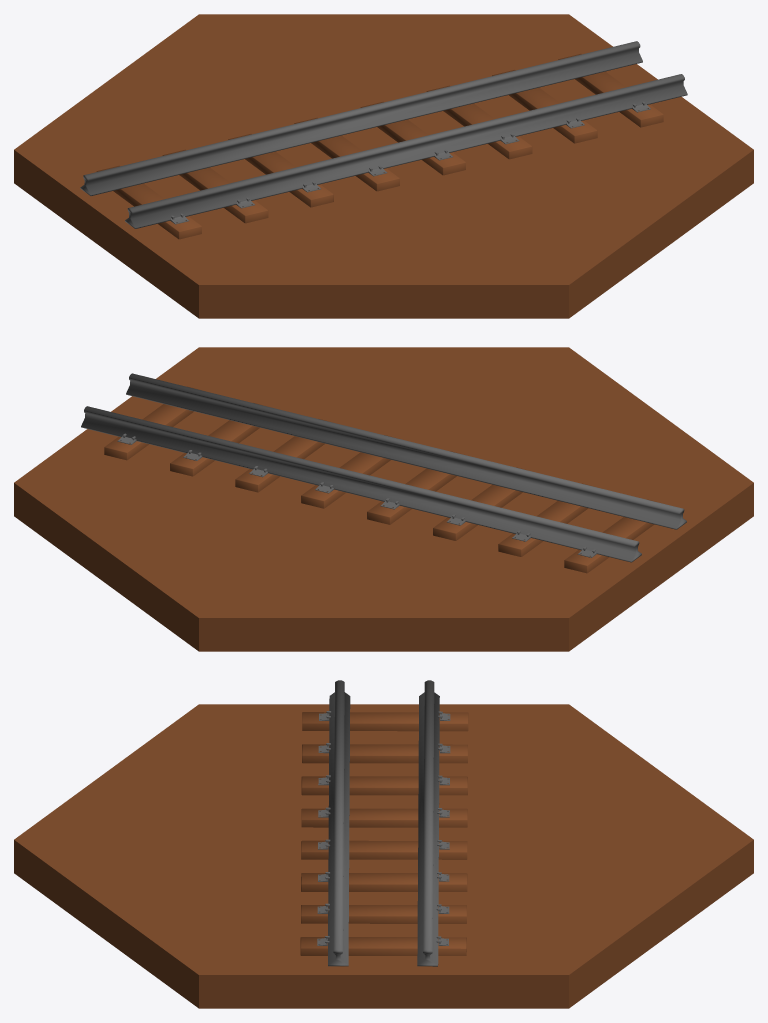
The model's file is TrilhoReto.fbx.
3 renders of one model, top to bottom at view 1: azimuth 30°, elevation 25°; view 2: azimuth 150°, elevation 25°; view 3: azimuth 270°, elevation 25°, orthographic.
Parts seen in each view (by area): view 1: Trilho_reto; view 2: Trilho_reto; view 3: Trilho_reto.
Part boxes in pixels (x1=…): Trilho_reto: x1=14, y1=14, x2=753, y2=318; Trilho_reto: x1=14, y1=347, x2=753, y2=651; Trilho_reto: x1=14, y1=680, x2=753, y2=1008.
Size of the model in its own units: 173 by 17.38 by 200.
